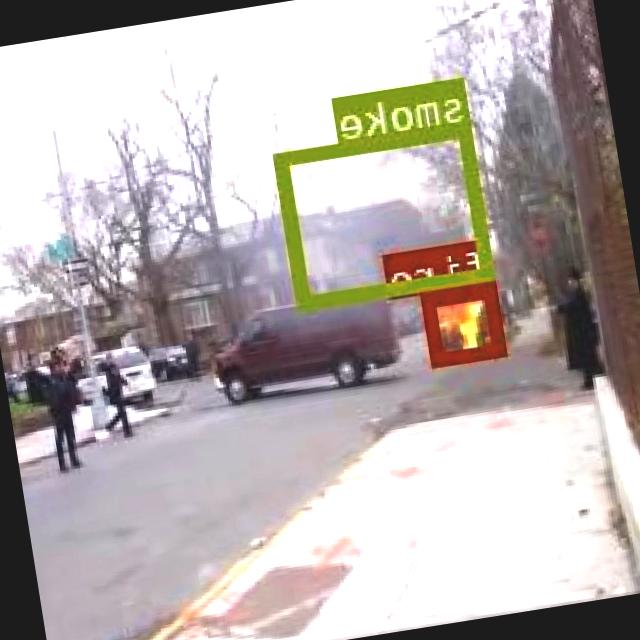fire: (425, 281, 508, 364)
smoke: (277, 120, 497, 307)
